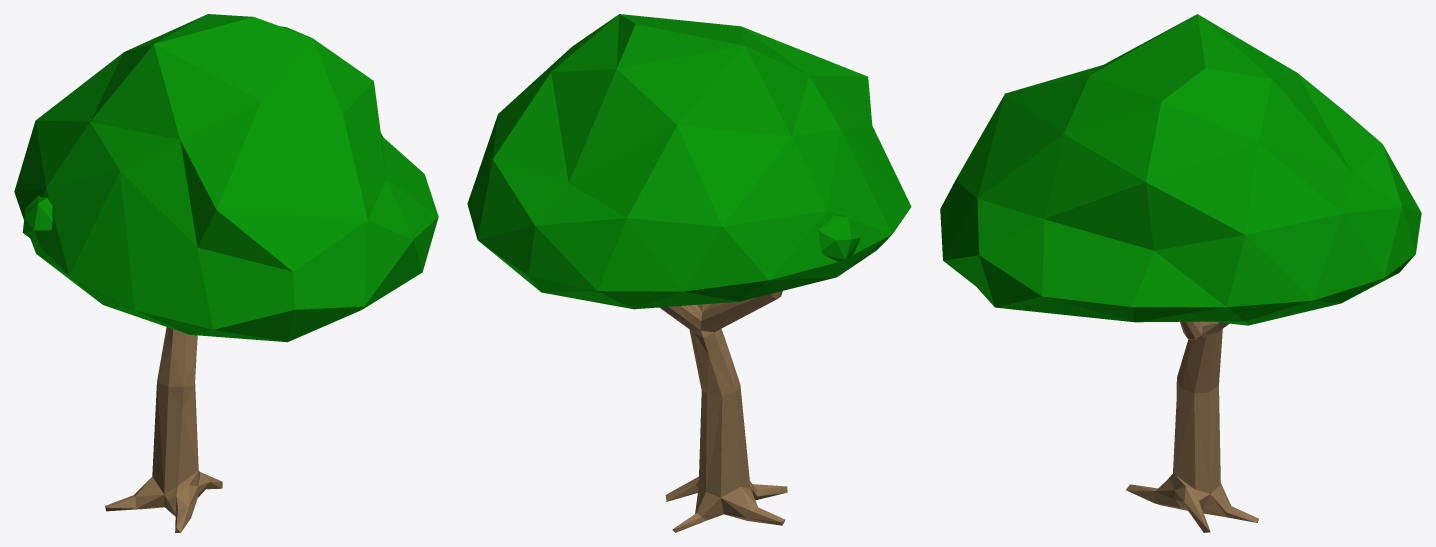
Rendered from Laubbaum_Neu.fbx.
The picture shows the model from 3 angles, left to right: view 1: azimuth 30°, elevation 25°; view 2: azimuth 150°, elevation 25°; view 3: azimuth 270°, elevation 25°; orthographic projection. The views are drawn at different scales.
Visible parts, largest first — view 1: BaumKrone2:BaumKrone2, BaumStamm:BaumStamm, BaumKrone:BaumKrone; view 2: BaumKrone2:BaumKrone2, BaumStamm:BaumStamm, BaumKrone:BaumKrone; view 3: BaumKrone2:BaumKrone2, BaumStamm:BaumStamm.
Boxes of the visible parts, x1=… form: BaumKrone2:BaumKrone2: x1=14, y1=14, x2=438, y2=342; BaumStamm:BaumStamm: x1=105, y1=327, x2=222, y2=532; BaumKrone:BaumKrone: x1=22, y1=195, x2=52, y2=244; BaumKrone2:BaumKrone2: x1=467, y1=14, x2=911, y2=309; BaumStamm:BaumStamm: x1=659, y1=291, x2=787, y2=532; BaumKrone:BaumKrone: x1=818, y1=214, x2=860, y2=261; BaumKrone2:BaumKrone2: x1=940, y1=14, x2=1421, y2=325; BaumStamm:BaumStamm: x1=1126, y1=321, x2=1258, y2=532.
Size of the model in its own units: 104 by 129 by 116.
